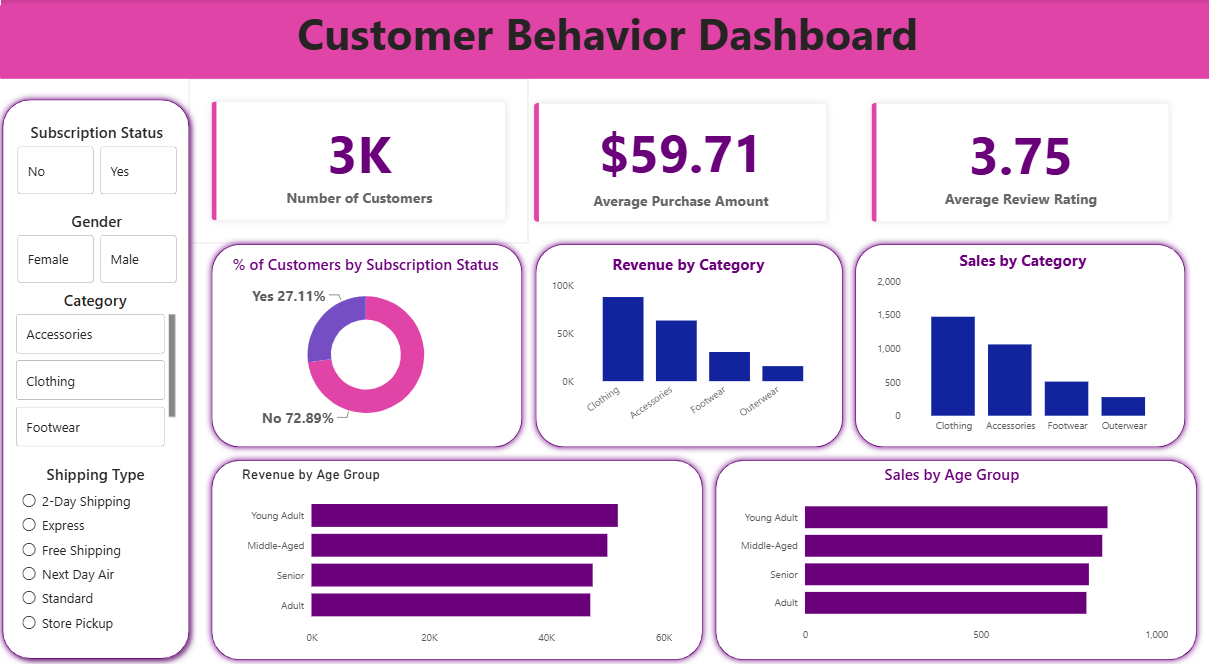

The dashboard page shown, as its layout file describes it:
{"tool":"powerbi","page":{"name":"Page 1","canvas":[1500,820],"ordinal":0},"visuals":[{"type":"cardVisual","fields":{"Data":["customer_behavior customer.Average Purchase Amount"]},"box":[634,99,416,202],"z":0},{"type":"cardVisual","fields":{"Data":["customer_behavior customer.Average Review Rating"]},"box":[1050,99,422,202],"z":1000},{"type":"cardVisual","fields":{"Data":["customer_behavior customer.Number of Customers"]},"box":[238,98,418,202],"z":2000},{"type":"shape","box":[0,0,1500,98],"z":3000},{"type":"textbox","box":[8,0,1492,98],"z":4000},{"type":"shape","box":[258,292.3,398,266],"z":5000},{"type":"donutChart","title":"% of Customers by Subscription Status","fields":{"Category":["customer_behavior customer.subscription_status"],"Y":["CountNonNull(customer_behavior customer.customer_id)"]},"box":[276,314.3,358,222],"z":6000},{"type":"shape","box":[656,292.3,394,266],"z":7000},{"type":"shape","box":[1050,292.3,422,266],"z":8000},{"type":"clusteredColumnChart","title":"Revenue by Category","fields":{"Y":["Sum(customer_behavior customer.purchase_amount)"],"Category":["customer_behavior customer.category"]},"box":[678,314.3,348,222],"z":9000},{"type":"clusteredColumnChart","title":"Sales by Category","fields":{"Y":["CountNonNull(customer_behavior customer.customer_id)"],"Category":["customer_behavior customer.category"]},"box":[1078,308.3,370,234],"z":10000},{"type":"shape","box":[0,114,248,706],"z":11000},{"type":"advancedSlicerVisual","title":"Subscription Status","fields":{"Values":["customer_behavior customer.subscription_status"]},"box":[22,152,206,94],"z":12000},{"type":"advancedSlicerVisual","title":"Gender","fields":{"Values":["customer_behavior customer.gender"]},"box":[22,260,206,94],"z":13000},{"type":"advancedSlicerVisual","title":"Category","fields":{"Values":["customer_behavior customer.category"]},"box":[20,358,206,200],"z":14000},{"type":"listSlicer","title":"Shipping Type","fields":{"Values":["customer_behavior customer.shipping_type"]},"box":[28,572,192,230],"z":15000},{"type":"shape","box":[878,558,608,262],"z":17000},{"type":"shape","box":[258,558,620,262],"z":18000},{"type":"clusteredBarChart","title":"Revenue by Age Group","fields":{"Y":["Sum(customer_behavior customer.purchase_amount)"],"Category":["customer_behavior customer.age_group"]},"box":[298,574,538,230],"z":18500},{"type":"clusteredBarChart","title":"Sales by Age Group","fields":{"Y":["CountNonNull(customer_behavior customer.customer_id)"],"Category":["customer_behavior customer.age_group"]},"box":[906,572,542,228],"z":19000}]}

Visuals, with their boxes in screenshot pixels (x1, y1, x2, y2), scaled from the page's 1500x820 canvas onto the 1209x664 screenshot:
cardVisual - customer_behavior customer.Average Purchase Amount: (x1=511, y1=80, x2=846, y2=244)
cardVisual - customer_behavior customer.Average Review Rating: (x1=846, y1=80, x2=1186, y2=244)
cardVisual - customer_behavior customer.Number of Customers: (x1=192, y1=79, x2=529, y2=243)
shape: (x1=0, y1=0, x2=1208, y2=79)
textbox: (x1=6, y1=0, x2=1208, y2=79)
shape: (x1=208, y1=237, x2=529, y2=452)
"% of Customers by Subscription Status" donutChart: (x1=222, y1=255, x2=511, y2=434)
shape: (x1=529, y1=237, x2=846, y2=452)
shape: (x1=846, y1=237, x2=1186, y2=452)
"Revenue by Category" clusteredColumnChart: (x1=546, y1=255, x2=827, y2=434)
"Sales by Category" clusteredColumnChart: (x1=869, y1=250, x2=1167, y2=439)
shape: (x1=0, y1=92, x2=200, y2=663)
"Subscription Status" advancedSlicerVisual: (x1=18, y1=123, x2=184, y2=199)
"Gender" advancedSlicerVisual: (x1=18, y1=211, x2=184, y2=287)
"Category" advancedSlicerVisual: (x1=16, y1=290, x2=182, y2=452)
"Shipping Type" listSlicer: (x1=23, y1=463, x2=177, y2=649)
shape: (x1=708, y1=452, x2=1198, y2=663)
shape: (x1=208, y1=452, x2=708, y2=663)
"Revenue by Age Group" clusteredBarChart: (x1=240, y1=465, x2=674, y2=651)
"Sales by Age Group" clusteredBarChart: (x1=730, y1=463, x2=1167, y2=648)
